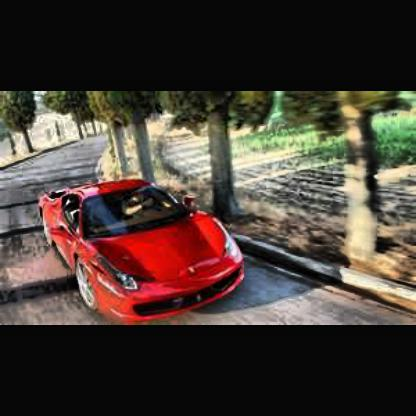Ferrari 458 Italia Coupe 2012: (38, 180, 250, 325)
